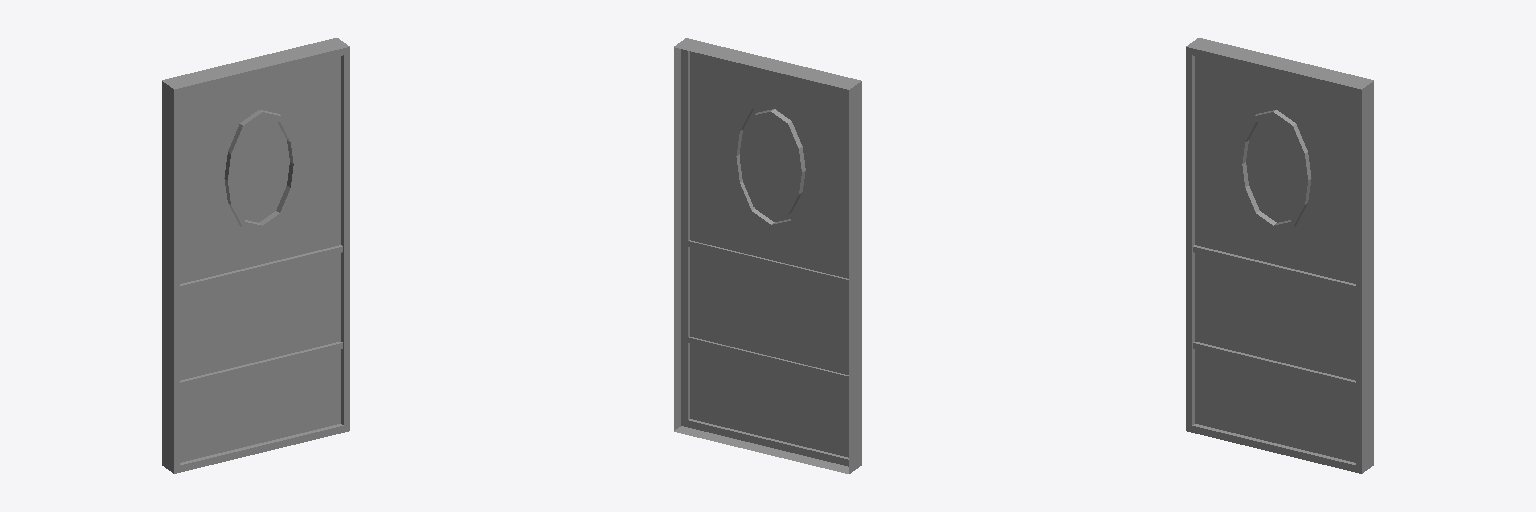
File: Door_Window.obj
3 renders of one model, left to right at view 1: azimuth 30°, elevation 25°; view 2: azimuth 150°, elevation 25°; view 3: azimuth 330°, elevation 25°, orthographic.
Parts seen in each view (by area): view 1: Door_Window_Cube.167; view 2: Door_Window_Cube.167; view 3: Door_Window_Cube.167.
Boxes of the visible parts, box(x1,y1,x2,y2) form: Door_Window_Cube.167: box(162, 38, 349, 473); Door_Window_Cube.167: box(674, 38, 861, 473); Door_Window_Cube.167: box(1186, 38, 1373, 473).
Size of the model in its own units: 0.4386 by 0.9169 by 0.0572.